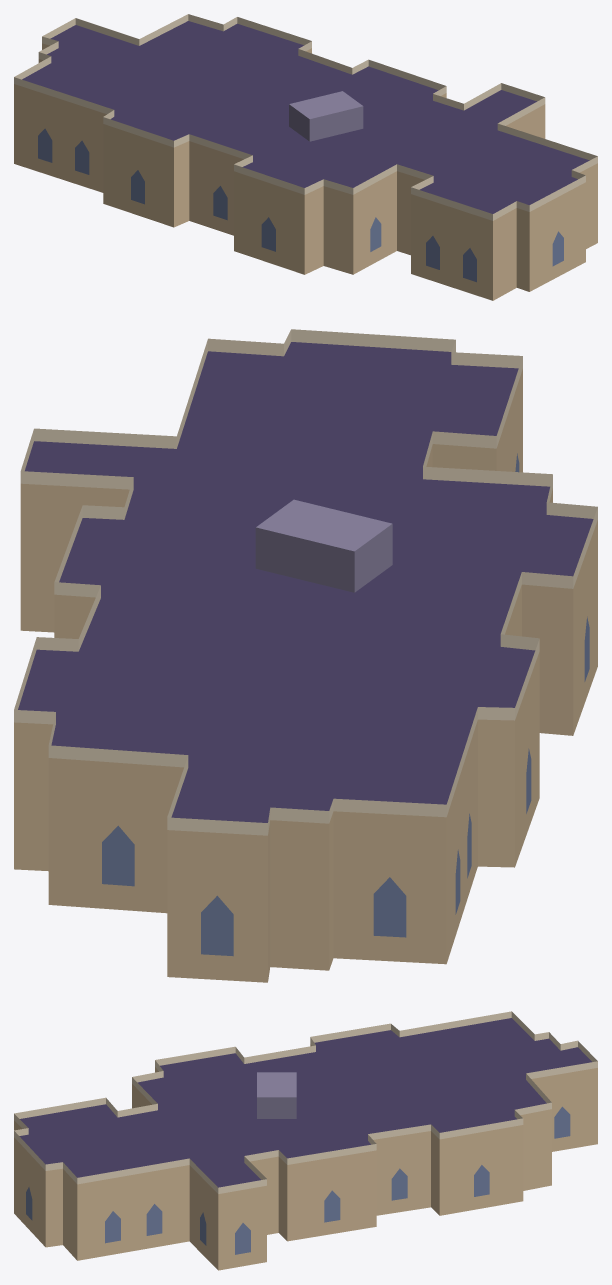
Rendered from b-018-south-hall-day.glb.
3 renders of one model, top to bottom at view 1: azimuth 30°, elevation 25°; view 2: azimuth 150°, elevation 25°; view 3: azimuth 270°, elevation 25°, orthographic. The views are drawn at different scales.
Parts seen in each view (by area): view 1: campus/b-018-south-hall-day-0; view 2: campus/b-018-south-hall-day-0; view 3: campus/b-018-south-hall-day-0.
Boxes of the visible parts, x1,y1,x2,y2 form: campus/b-018-south-hall-day-0: (14,14,597,300); campus/b-018-south-hall-day-0: (14,329,597,982); campus/b-018-south-hall-day-0: (14,1011,597,1270).
Bounding box in the file's own units: 31.66 × 8.2 × 44.33.
